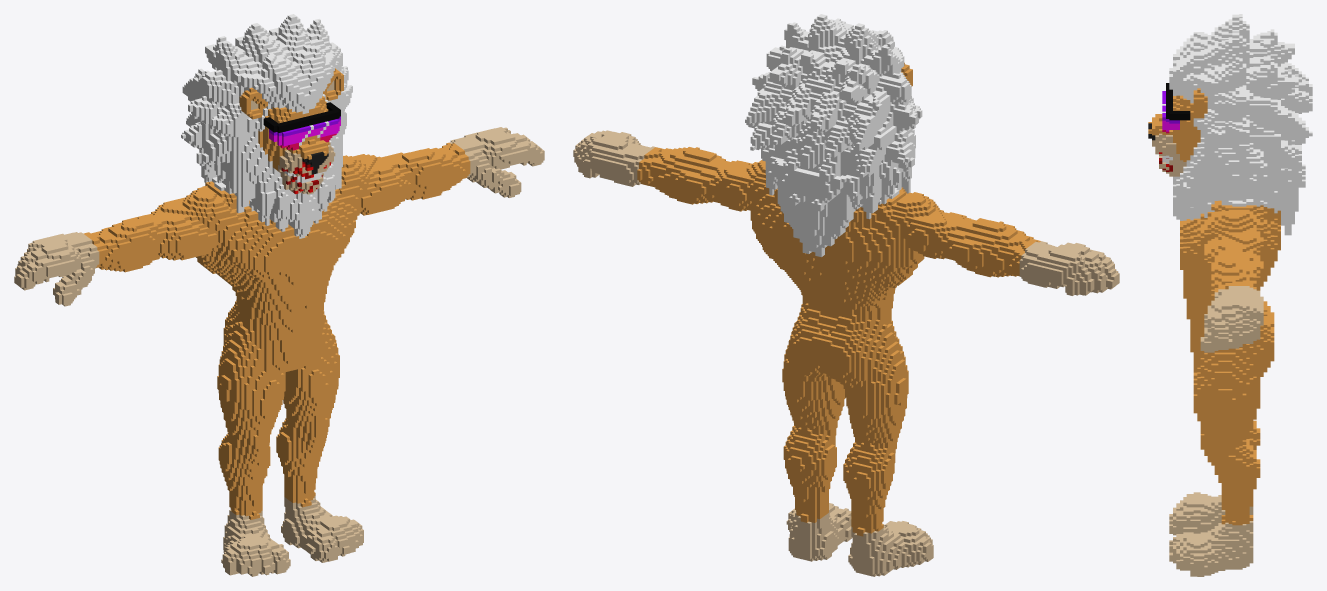
The model's file is 627-CSIZv-Rk.glb.
3 renders of one model, left to right at view 1: azimuth 30°, elevation 25°; view 2: azimuth 150°, elevation 25°; view 3: azimuth 270°, elevation 25°, orthographic. The views are drawn at different scales.
Parts seen in each view (by area): view 1: blood; view 2: blood; view 3: blood.
Boxes of the visible parts, x1,y1,x2,y2 form: blood: [14, 14, 544, 576]; blood: [573, 14, 1119, 576]; blood: [1148, 14, 1312, 576].
Size of the model in its own units: 17.2 by 16.5 by 4.7.
4 materials, 4 textured.
